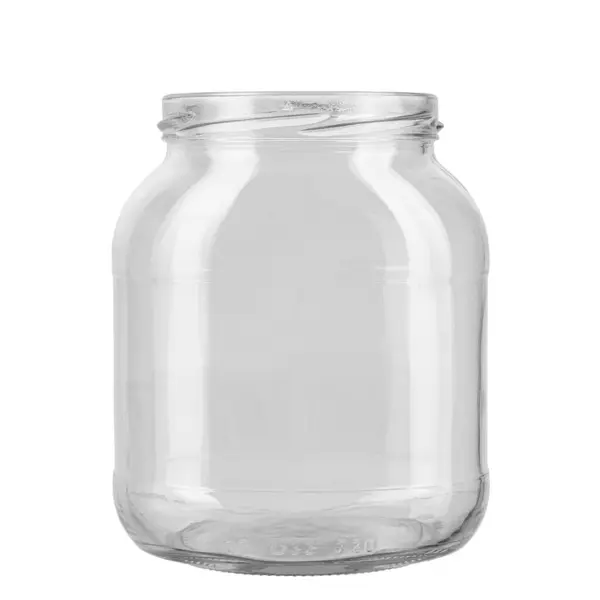glass_bottle: (78, 74, 511, 588)
